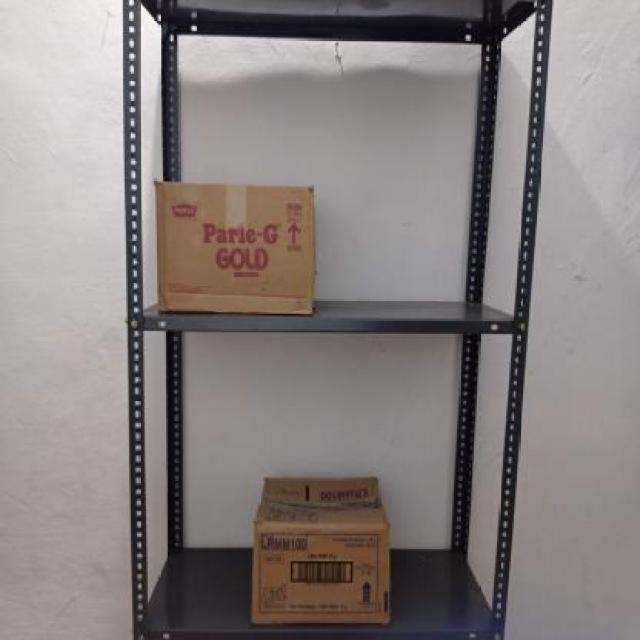box: (152, 178, 316, 319), (252, 520, 392, 628)
